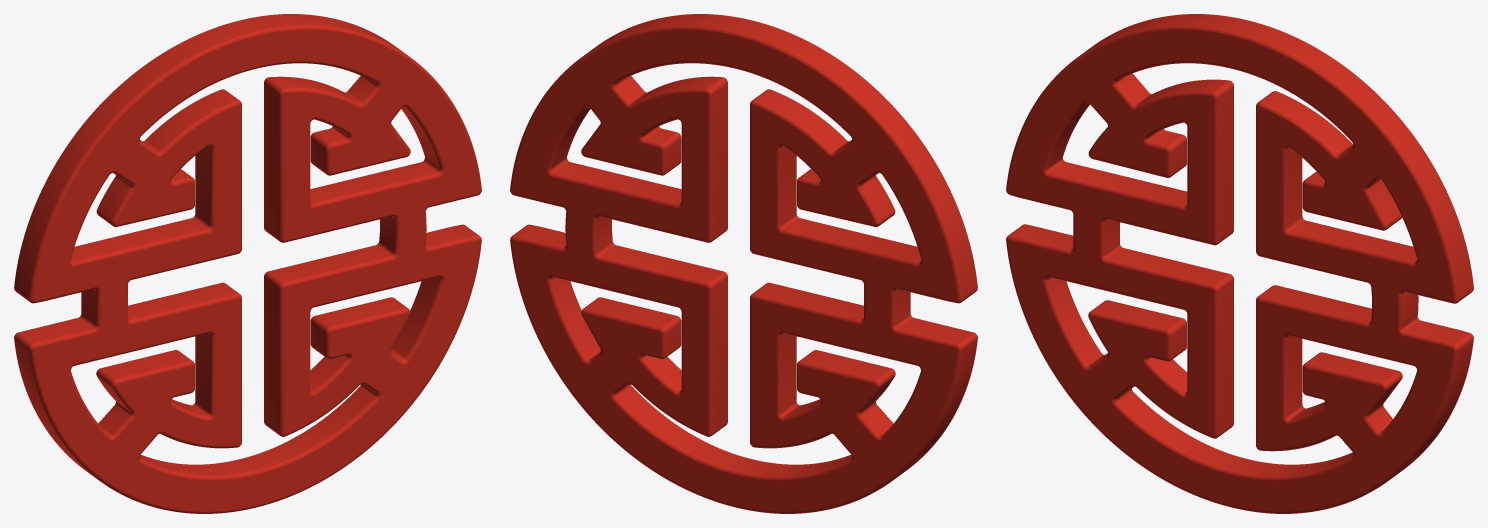
File: shou-cruz.glb
The picture shows the model from 3 angles, left to right: view 1: azimuth 30°, elevation 25°; view 2: azimuth 150°, elevation 25°; view 3: azimuth 330°, elevation 25°; orthographic projection.
Parts seen in each view (by area): view 1: geometry_0; view 2: geometry_0; view 3: geometry_0.
Boxes of the visible parts, x1,y1,x2,y2 form: geometry_0: [14, 14, 481, 513]; geometry_0: [510, 14, 977, 513]; geometry_0: [1006, 14, 1473, 513].
Size of the model in its own units: 0.9944 by 1 by 0.07.
